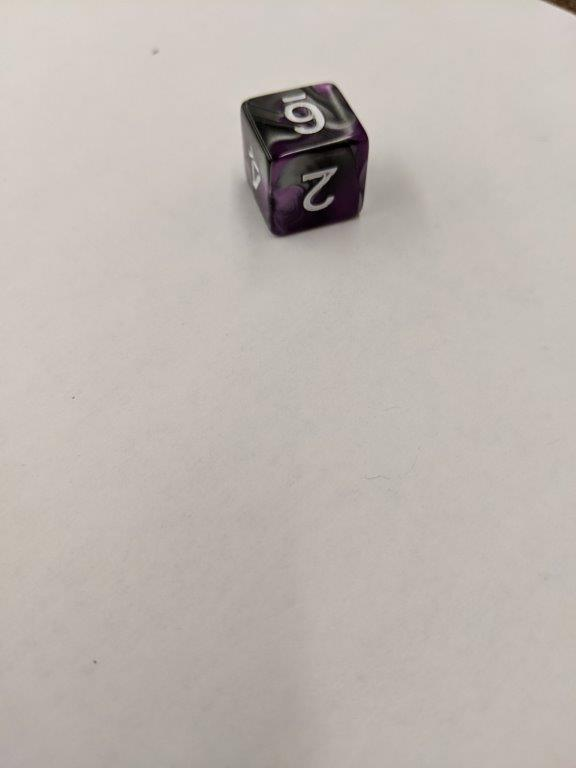d6-6: (242, 81, 370, 237)
